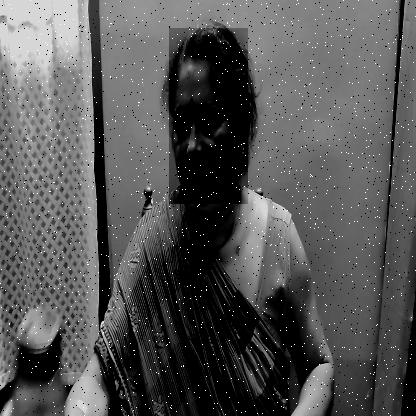Distracted: (169, 28, 248, 204)
